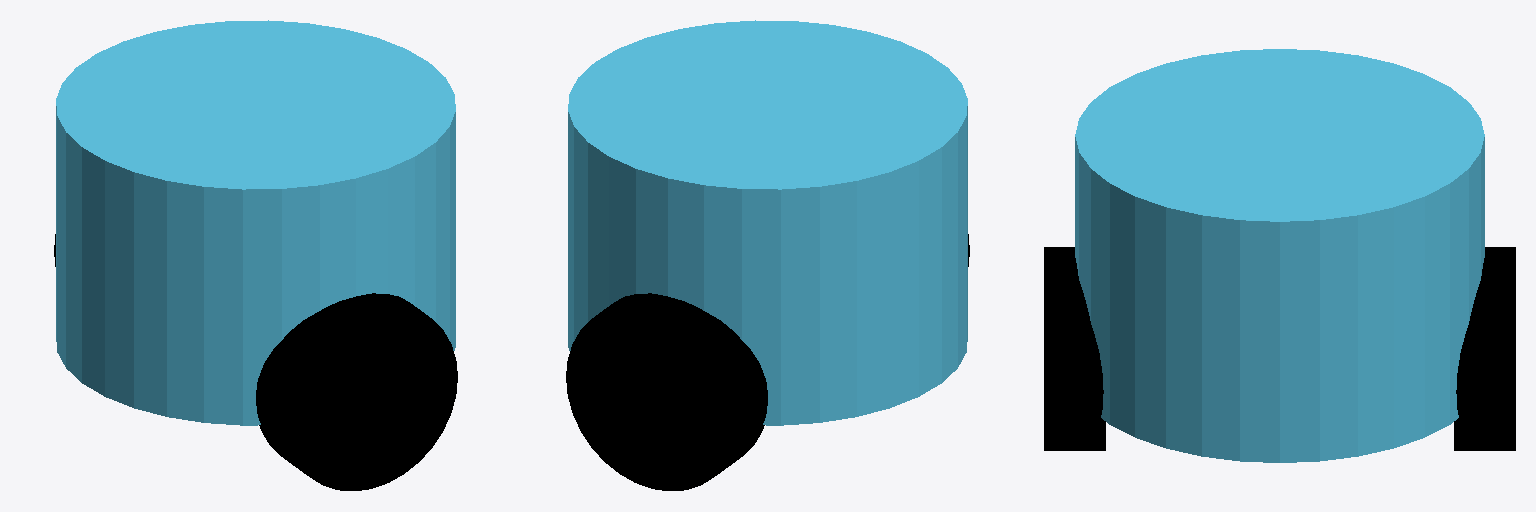
URDF robot description (giraff):
<?xml version="1.0"?>
<robot name="giraff">

  ### Define colors
  <material name="blue">
    <color rgba="0.41 0.83 0.96 1"/>
  </material>
  <material name="black">
    <color rgba="0 0 0 1"/>
  </material>
  <material name="white">
    <color rgba="1 1 1 1"/>
  </material>
    <material name="grey">
    <color rgba="0.5 0.5 0.5 1"/>
  </material>
  <material name="red">
    <color rgba="0.9 0.0 0.0 1"/>
  </material>
  <material name="green">
    <color rgba="0.0 0.9 0.0 1"/>
  </material>

  # Base
  <link name="base_link">
    <visual>
      <geometry>
        <cylinder length="0.13" radius="0.1"/>
      </geometry>
      <material name="blue"/>
      <origin xyz="0 0 0.15"/>
    </visual>
  </link>

  # Right wheel
  <link name="right_wheel">
    <visual>
      <origin rpy="1.57075 0 0" xyz="0 0 0"/>
      <geometry>
        <cylinder length="0.03" radius="0.05"/>
      </geometry>
      <material name="black"/>
    </visual>
  </link>
  
  <joint name="base_to_right_wheel_joint" type="fixed">
    <parent link="base_link"/>
    <child link="right_wheel"/>
    <origin rpy="0 0 0" xyz="0 0.1 0.1"/>
  </joint>


  #Left wheel
  <link name="left_wheel">
    <visual>
      <origin rpy="1.57075 0 0" xyz="0 0 0"/>
      <geometry>
        <cylinder length="0.03" radius="0.05"/>
      </geometry>
      <material name="black"/>
    </visual>
  </link>
  
  <joint name="base_to_left_wheel_joint" type="fixed">
    <parent link="base_link"/>
    <child link="left_wheel"/>
    <origin rpy="0 0 0" xyz="0 -0.1 0.1"/>
  </joint>

</robot>

--- What the picture shows (computed from the rendered views, not written in the file) ---
3 views of the same robot in one strip: view 1: azimuth 30°, elevation 25°; view 2: azimuth 150°, elevation 25°; view 3: azimuth 270°, elevation 25° (orthographic).
Robot: giraff — 3 links, 2 joints (2 fixed); root link base_link; default pose: every joint at zero.
Links seen in each view (by area): view 1: base_link, left_wheel; view 2: base_link, right_wheel; view 3: base_link, right_wheel, left_wheel.
Link boxes in pixels (x1=…): base_link: x1=56, y1=20, x2=455, y2=425; left_wheel: x1=256, y1=293, x2=457, y2=490; base_link: x1=568, y1=20, x2=967, y2=425; right_wheel: x1=566, y1=293, x2=767, y2=490; base_link: x1=1075, y1=49, x2=1484, y2=462; right_wheel: x1=1454, y1=247, x2=1515, y2=450; left_wheel: x1=1044, y1=247, x2=1105, y2=450.
Size in the robot's own frame: 0.2 by 0.23 by 0.165 metres.
Geometry: primitives only (box / cylinder / sphere), no mesh files.